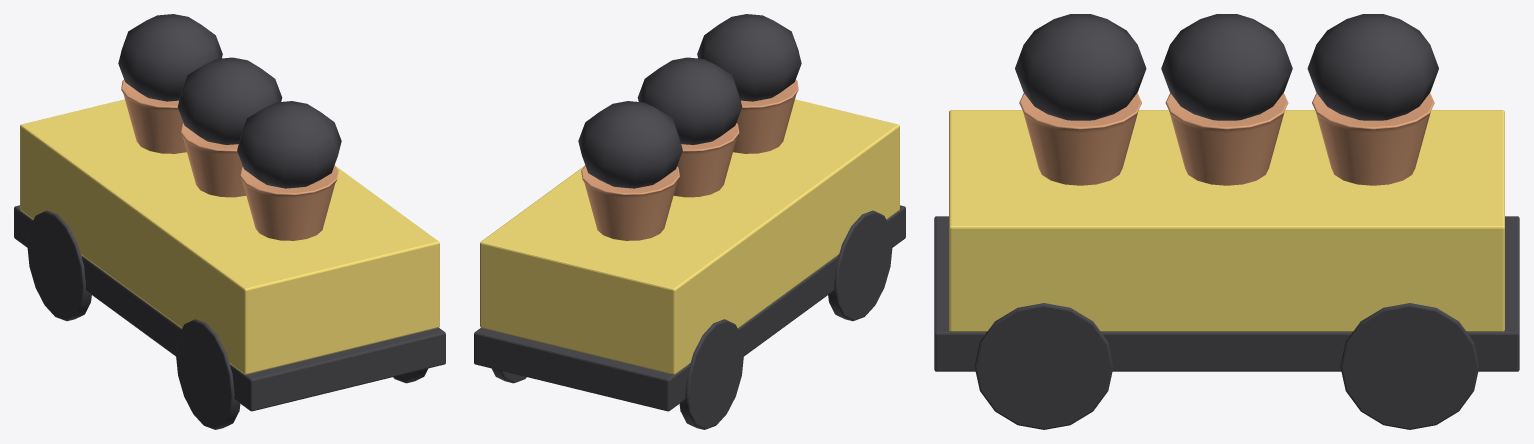
The model's file is gartenbahn_wagen.glb.
The picture shows the model from 3 angles, left to right: view 1: azimuth 30°, elevation 25°; view 2: azimuth 150°, elevation 25°; view 3: azimuth 270°, elevation 25°; orthographic projection. The views are drawn at different scales.
Visible parts, largest first — view 1: gartenbahn_wagen_lod0; view 2: gartenbahn_wagen_lod0; view 3: gartenbahn_wagen_lod0.
Boxes of the visible parts, left/top/right/bottom form: gartenbahn_wagen_lod0: left=14, top=14, right=445, bottom=429; gartenbahn_wagen_lod0: left=474, top=14, right=905, bottom=429; gartenbahn_wagen_lod0: left=934, top=14, right=1519, bottom=429.
Size of what is drawn, in the model's own units: 3.92 by 5.27 by 8.
